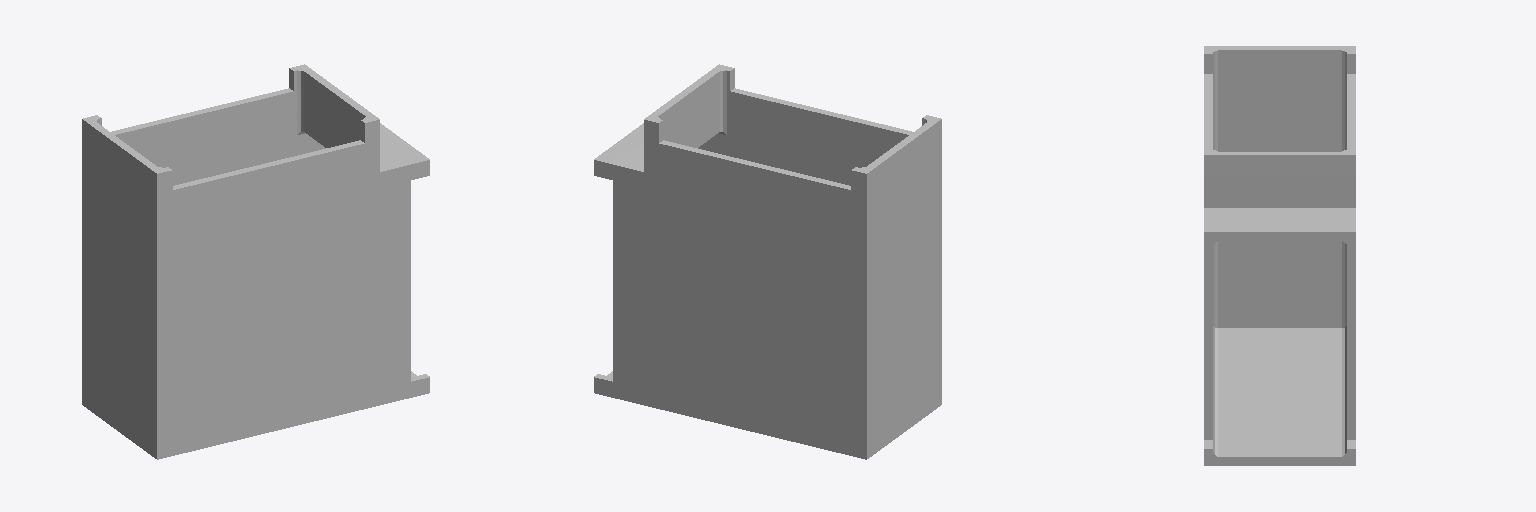
3 renders of one model, left to right at view 1: azimuth 30°, elevation 25°; view 2: azimuth 150°, elevation 25°; view 3: azimuth 270°, elevation 25°, orthographic.
Parts seen in each view (by area): view 1: SM_90Turn_E; view 2: SM_90Turn_E; view 3: SM_90Turn_E.
Part boxes in pixels (x1,y1,x2,y2): SM_90Turn_E: (82,64,429,459); SM_90Turn_E: (594,64,941,459); SM_90Turn_E: (1204,46,1355,465).
Size of the model in its own units: 280 by 280 by 134.